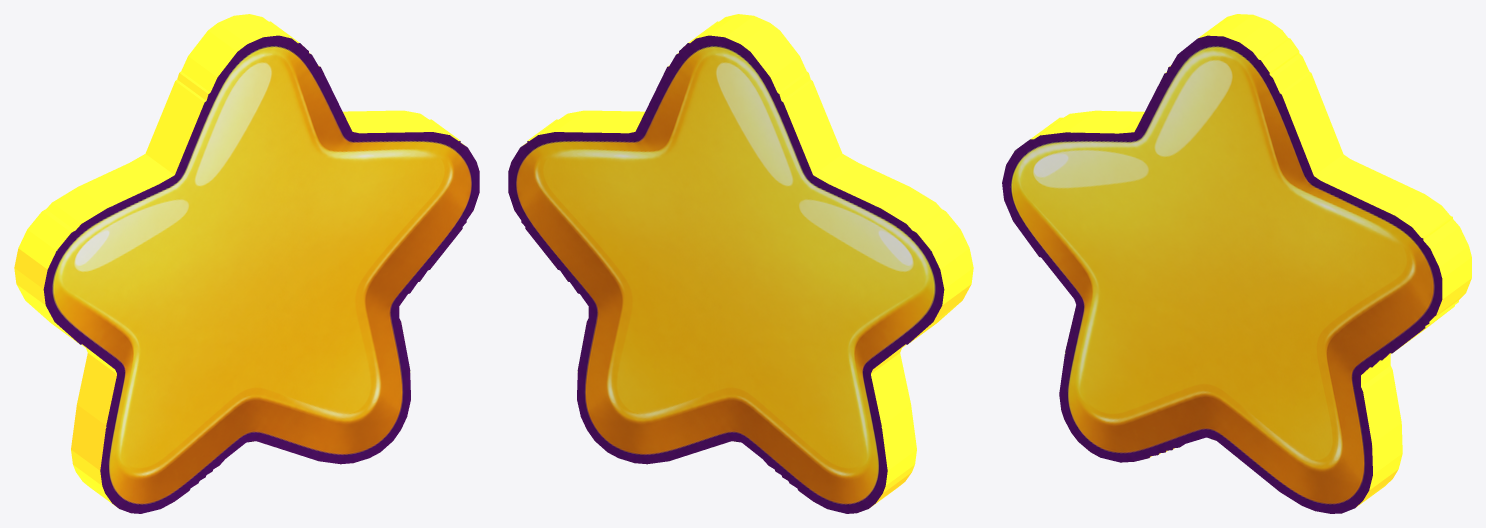
Rendered from icon_stars.glb.
3 views of the same model, side by side, from view 1: azimuth 30°, elevation 25°; view 2: azimuth 150°, elevation 25°; view 3: azimuth 330°, elevation 25° (orthographic).
Parts seen in each view (by area): view 1: IconRoot; view 2: IconRoot; view 3: IconRoot.
Boxes of the visible parts, x1,y1,x2,y2 form: IconRoot: (14, 14, 479, 513); IconRoot: (508, 14, 973, 513); IconRoot: (1002, 14, 1471, 513).
Size of the model in its own units: 1.71 by 1.68 by 0.2.
Materials: 2 (1 with a texture image).
